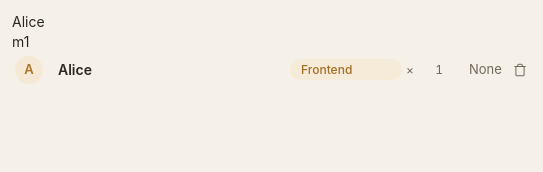
MemberRow › commits a renamed member on blur
The image size is (543, 172).
Replace the text in the field named "Member name" with "Alicia": (168,70) [51,58,286,81]
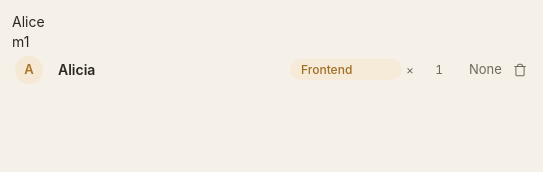
Expected: the text with test id "member-name" reads "Alice", [12,13,45,30]
Leave the field named "Member name", box [51,58,286,81]
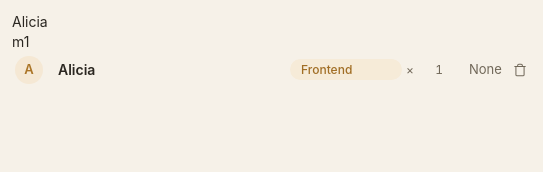
Result: the text with test id "member-name" reads "Alicia" at [12,13,48,30]
